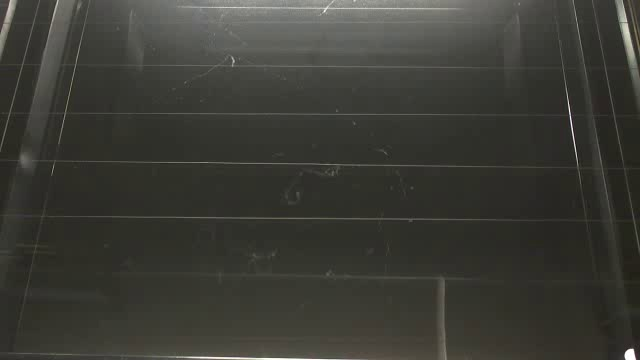Alfa: (431, 274, 452, 358)
